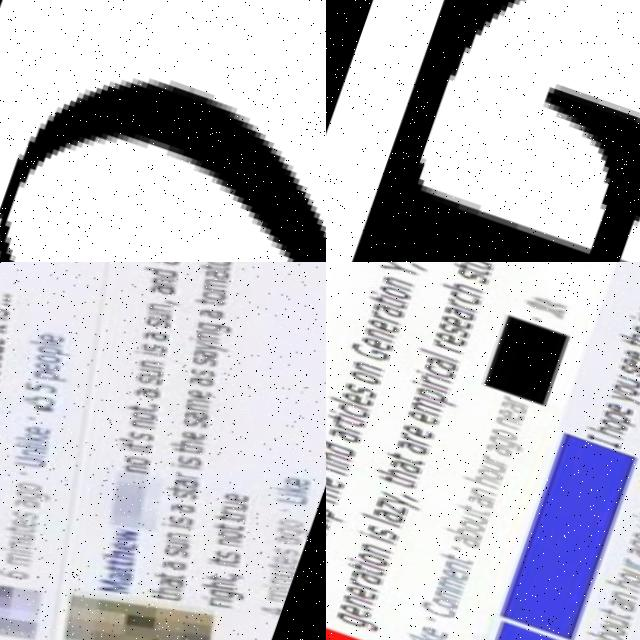2: (0, 32, 326, 262)
4: (256, 597, 284, 620)
5: (23, 374, 62, 400)
6: (0, 560, 32, 585)
F: (353, 0, 640, 262)
